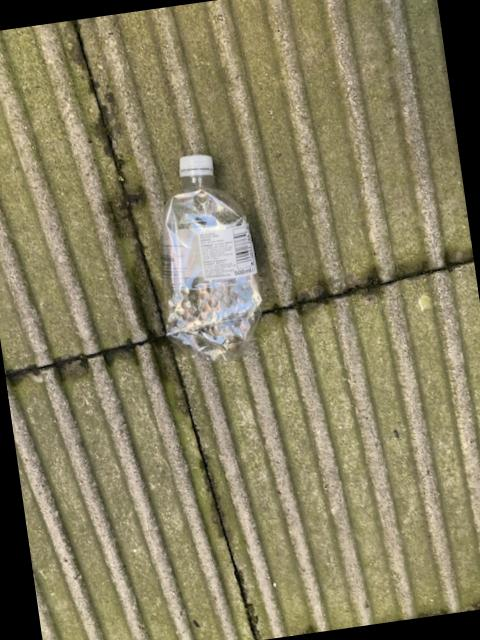plastic: (164, 156, 263, 362)
